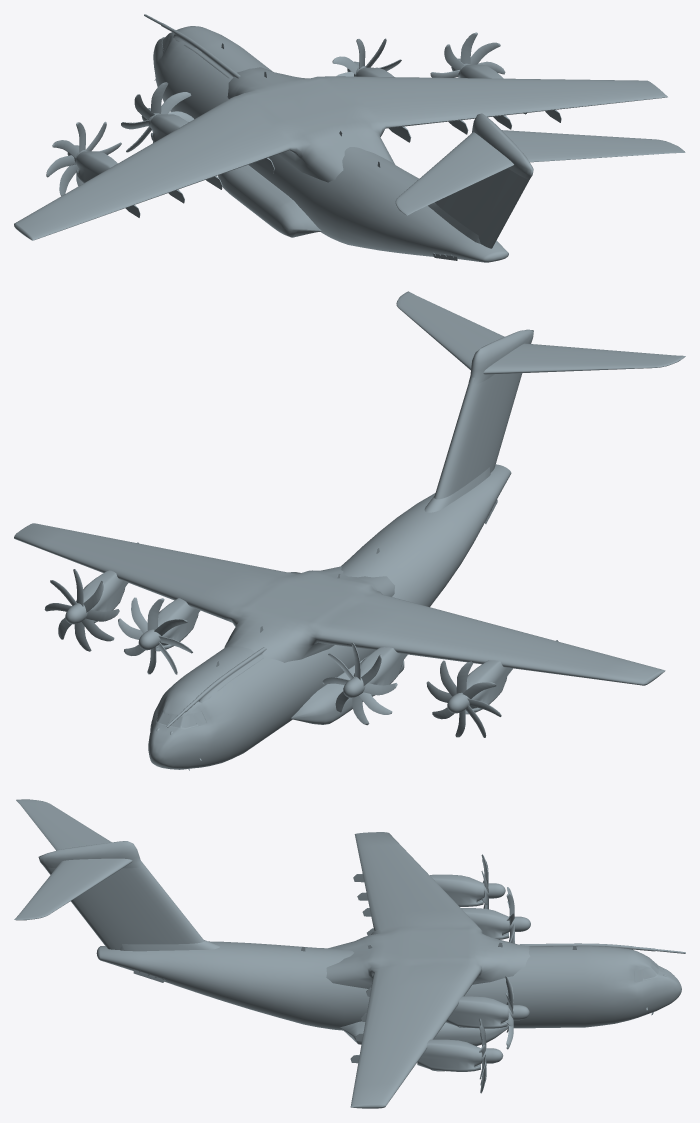
The model's file is model-aircraft-tp-3.glb.
3 renders of one model, top to bottom at view 1: azimuth 30°, elevation 25°; view 2: azimuth 150°, elevation 25°; view 3: azimuth 270°, elevation 25°, orthographic. The views are drawn at different scales.
Size of the model in its own units: 39.27 by 12.74 by 42.01.
